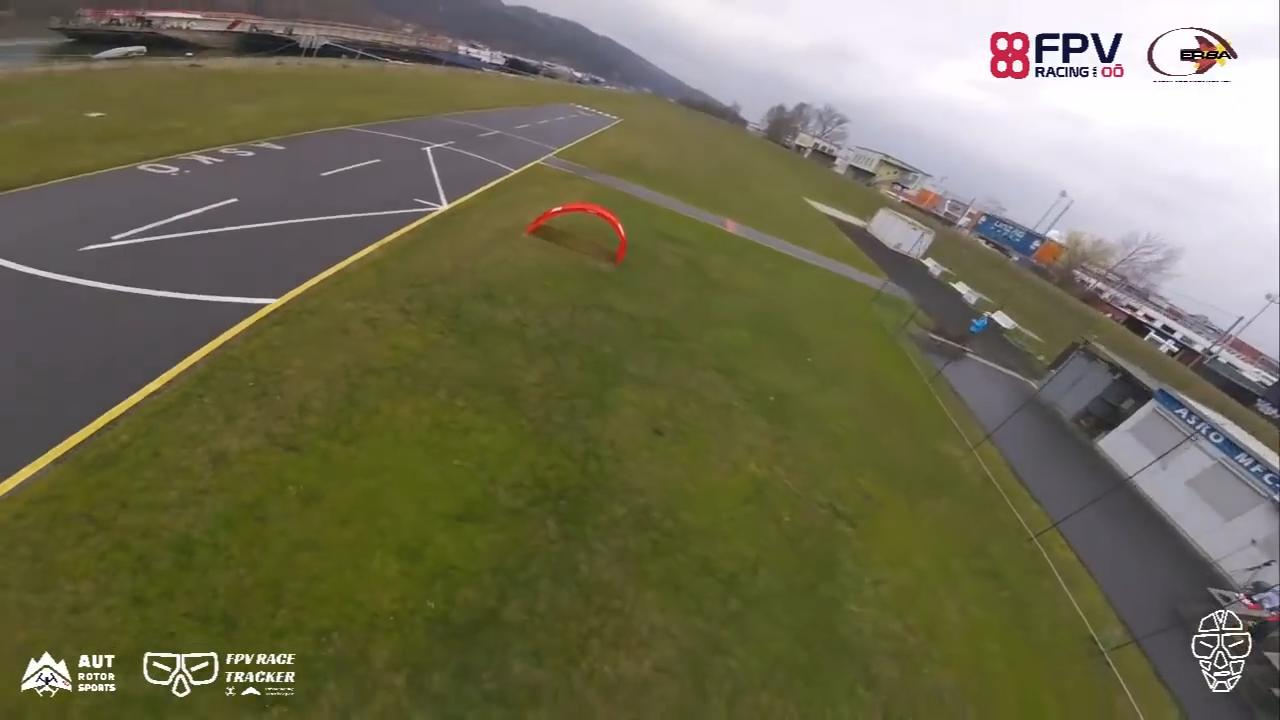gate: (522, 200, 629, 269)
